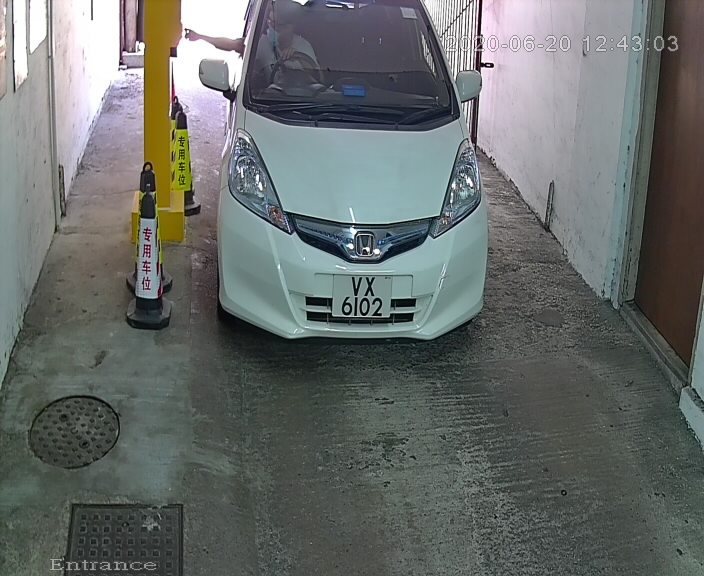privatecar: (193, 3, 503, 370)
